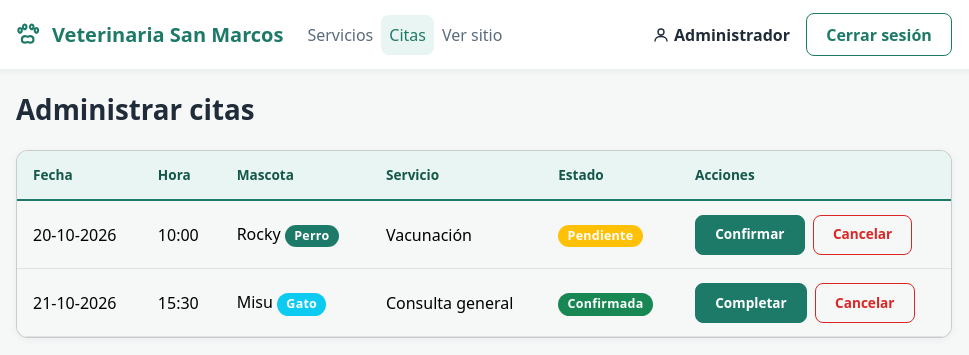
Test case: Página AdminCitas › cancelar una cita deja de ofrecer acciones
The width and height of the screenshot is (969, 355).
Click the button "Cancelar" in the row of "21-10-2026": [865, 303] box x1=815 y1=283 x2=915 y2=323
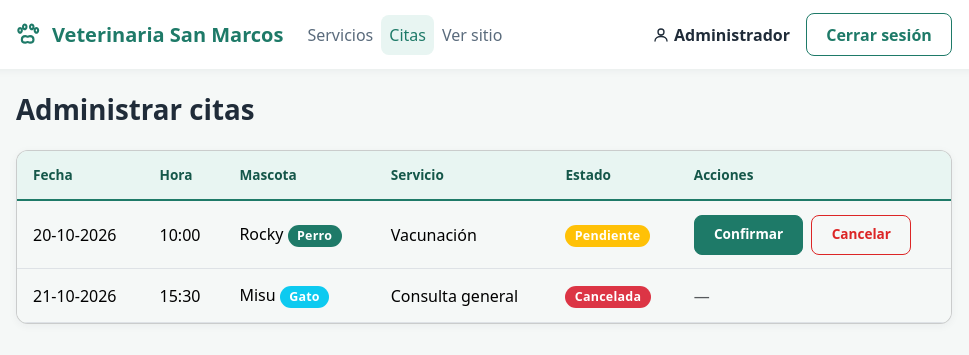
Expected: the text "Cancelada" is shown, x1=565 y1=286 x2=651 y2=308
Expected: the button "Completar" is gone
